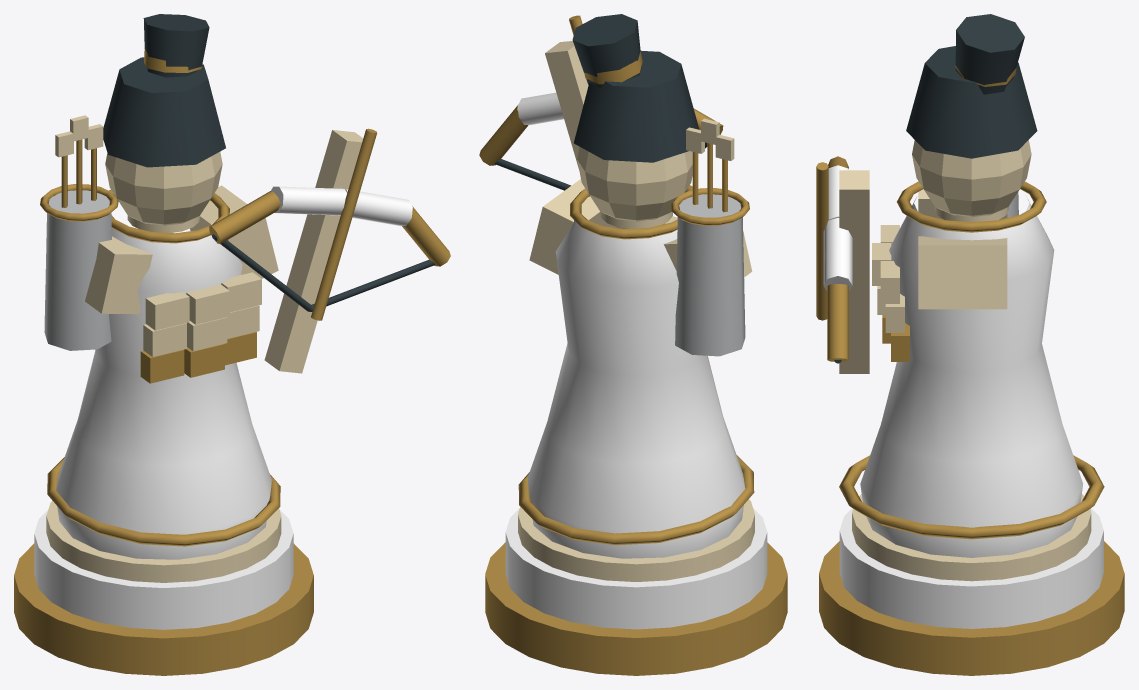
File: qinCrossbowman.glb
3 renders of one model, left to right at view 1: azimuth 30°, elevation 25°; view 2: azimuth 150°, elevation 25°; view 3: azimuth 270°, elevation 25°, orthographic.
Visible parts, largest first — view 1: Turned enamel robe, Trim plinth, Enamel base, Overlapping armour plates (×9), Wrapped hair, crossbowman enamel quiver, Ivory crossbow stock, Ivory base bead, Shoulder armour (×2), Faceted ivory face, Crossbow inner limb (×2), Trim hem (+6 smaller); view 2: Turned enamel robe, Trim plinth, Enamel base, crossbowman enamel quiver, Wrapped hair, Ivory base bead, Faceted ivory face, Trim hem, Bound topknot, Shoulder armour (×2), Ivory crossbow stock, Trim collar bead (+6 smaller); view 3: Turned enamel robe, Trim plinth, Enamel base, Wrapped hair, Ivory base bead, Shoulder armour, Faceted ivory face, Ivory crossbow stock, Trim hem, Bound topknot, Overlapping armour plates (×4), Crossbow inner limb (×2) (+4 smaller).
Boxes of the visible parts, x1,y1,x2,y2 form: Turned enamel robe: (56,221,271,559); Trim plinth: (14,543,313,675); Enamel base: (34,510,293,629); Overlapping armour plates (×9): (140,272,261,383); Wrapped hair: (103,57,225,167); crossbowman enamel quiver: (44,190,111,350); Ivory crossbow stock: (264,130,363,373); Ivory base bead: (46,501,281,582); Shoulder armour (×2): (85,185,278,314); Faceted ivory face: (105,152,222,225); Crossbow inner limb (×2): (271,186,412,226); Trim hem: (47,457,280,546); Turned enamel robe: (527,217,745,558); Trim plinth: (485,542,787,675); Enamel base: (505,508,767,629); crossbowman enamel quiver: (675,194,745,356); Wrapped hair: (574,50,699,162); Ivory base bead: (518,499,754,581); Faceted ivory face: (577,147,692,221); Trim hem: (518,455,754,545); Bound topknot: (572,14,641,87); Shoulder armour (×2): (529,179,752,277); Ivory crossbow stock: (545,41,617,227); Trim collar bead: (570,185,692,239); Turned enamel robe: (860,197,1082,557); Trim plinth: (819,541,1124,675); Enamel base: (839,508,1103,628); Wrapped hair: (906,46,1037,158); Ivory base bead: (852,494,1091,581); Shoulder armour: (918,236,1007,309); Faceted ivory face: (912,140,1031,216); Ivory crossbow stock: (839,170,869,373); Trim hem: (839,455,1104,539); Bound topknot: (955,14,1024,94); Overlapping armour plates (×4): (872,243,909,361); Crossbow inner limb (×2): (823,165,852,291).
Size of the model in its own units: 0.6314 by 1.01 by 0.4728.
